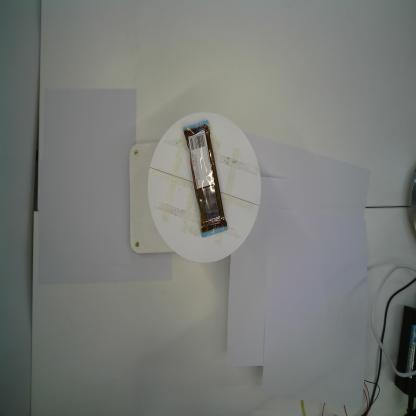Chocolate: (182, 116, 230, 238)
